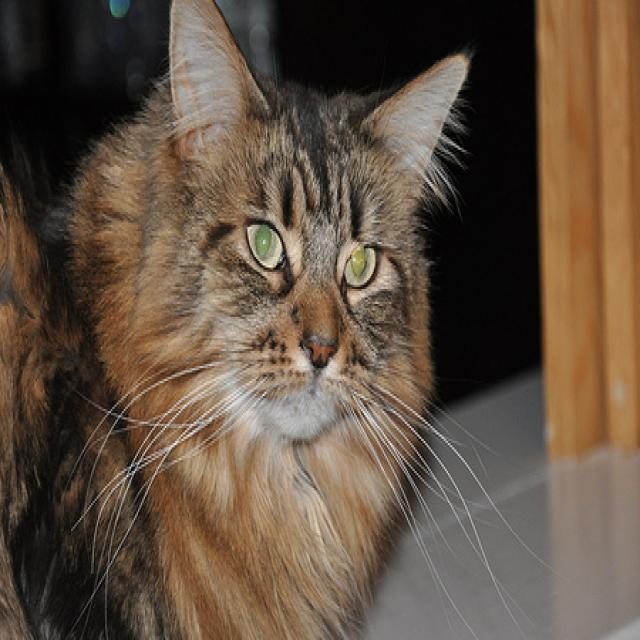Maine Coon: (0, 0, 472, 640)
